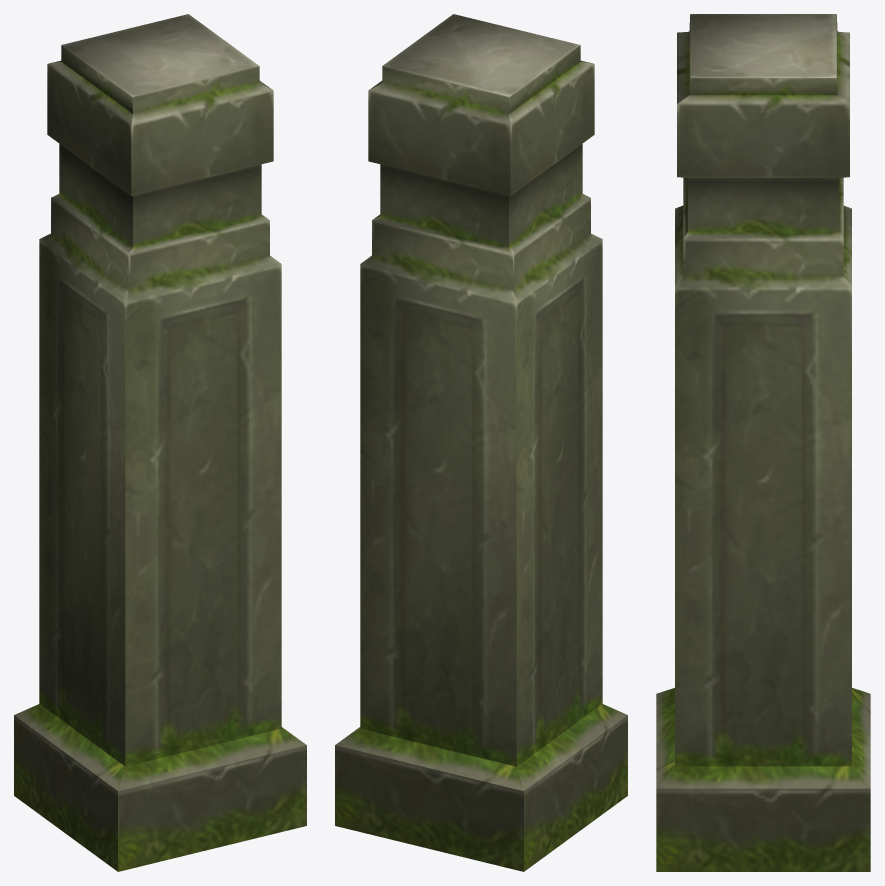
Rendered from qiang05_01.FBX.
3 views of the same model, side by side, from view 1: azimuth 30°, elevation 25°; view 2: azimuth 150°, elevation 25°; view 3: azimuth 270°, elevation 25° (orthographic). The views are drawn at different scales.
Visible parts, largest first — view 1: qiang05_01; view 2: qiang05_01; view 3: qiang05_01.
Boxes of the visible parts, <box> form: qiang05_01: <box>14,14,306,871</box>; qiang05_01: <box>335,14,627,871</box>; qiang05_01: <box>656,14,870,871</box>.
Size of the model in its own units: 114 by 437 by 109.
Materials: 1 (1 with a texture image).
